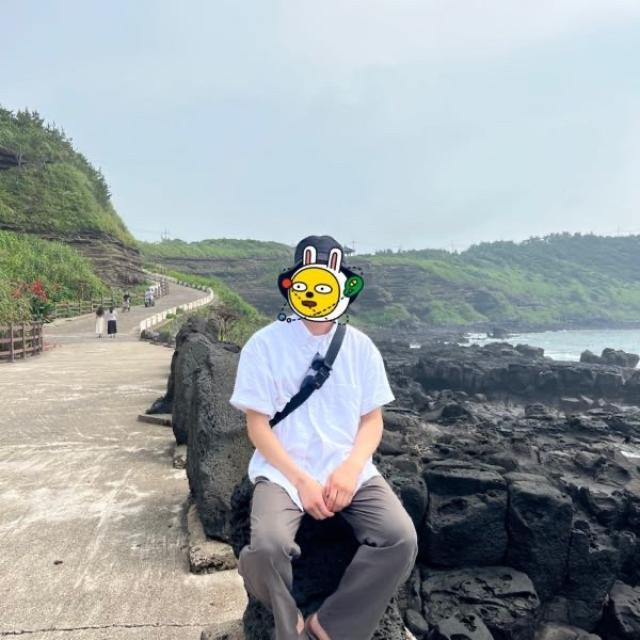shortsleeve: (234, 318, 398, 507)
slacks: (234, 465, 418, 639)
